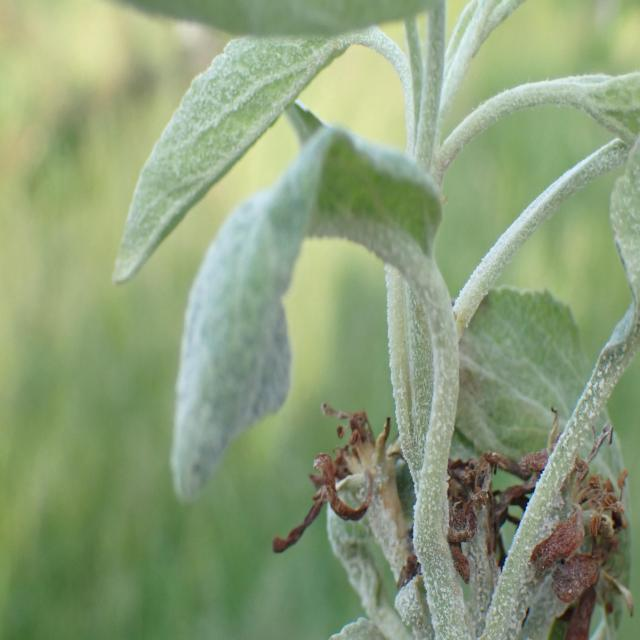Powdery_mildew: (166, 125, 443, 523), (105, 24, 397, 293), (587, 134, 640, 402), (68, 0, 430, 39)
